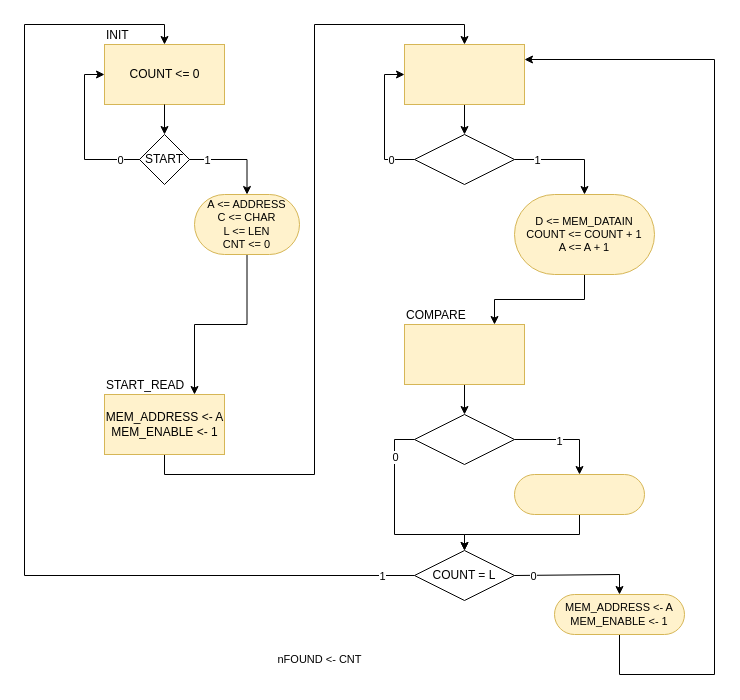
Image size: 740x700. Some labels were removed from this diagram. Here are the shapes that lost their labels. From the top down, the centre of each, then its label:
At [464,74]: "FETCH".
At [464,159]: "MEM_READY".
At [464,439]: "C = D".
At [579,494]: "CNT <= CNT + 1".
